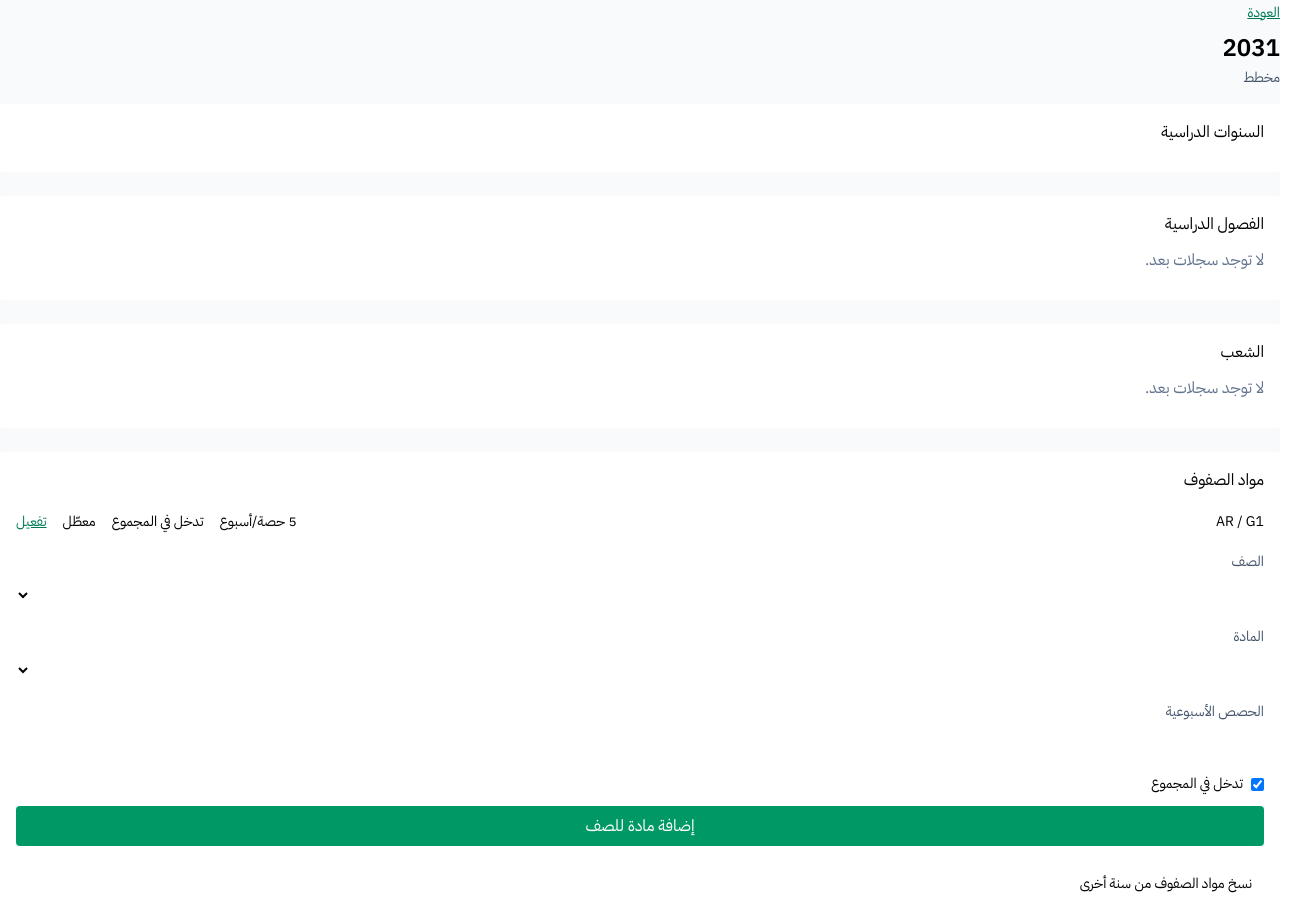
Scenario: year page › grade subjects (2B-1): a server refusal (T13) is shown translated
The image size is (1292, 898).
What coordinates should you click on to do the following:
click the button with test id "gs-toggle-G1-AR"
I would click on:
 (31, 522)
Its box is left=16, top=512, right=47, bottom=532.
(page scrolled)
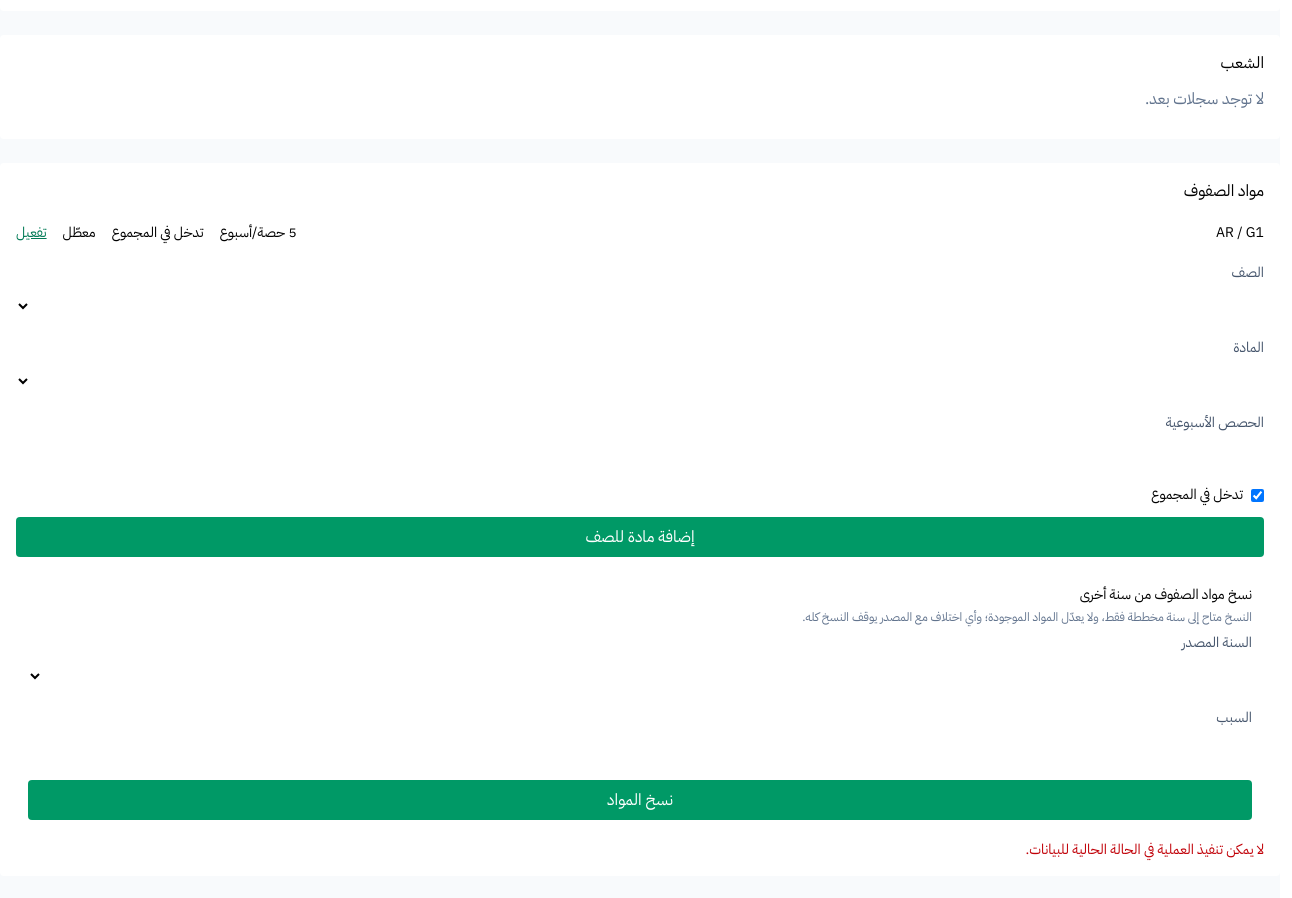
Expected: the message with test id "grade-subjects-error" reads "لا يمكن تنفيذ العملية في الحالة الحالية للبيانات.", left=1026, top=839, right=1264, bottom=860
